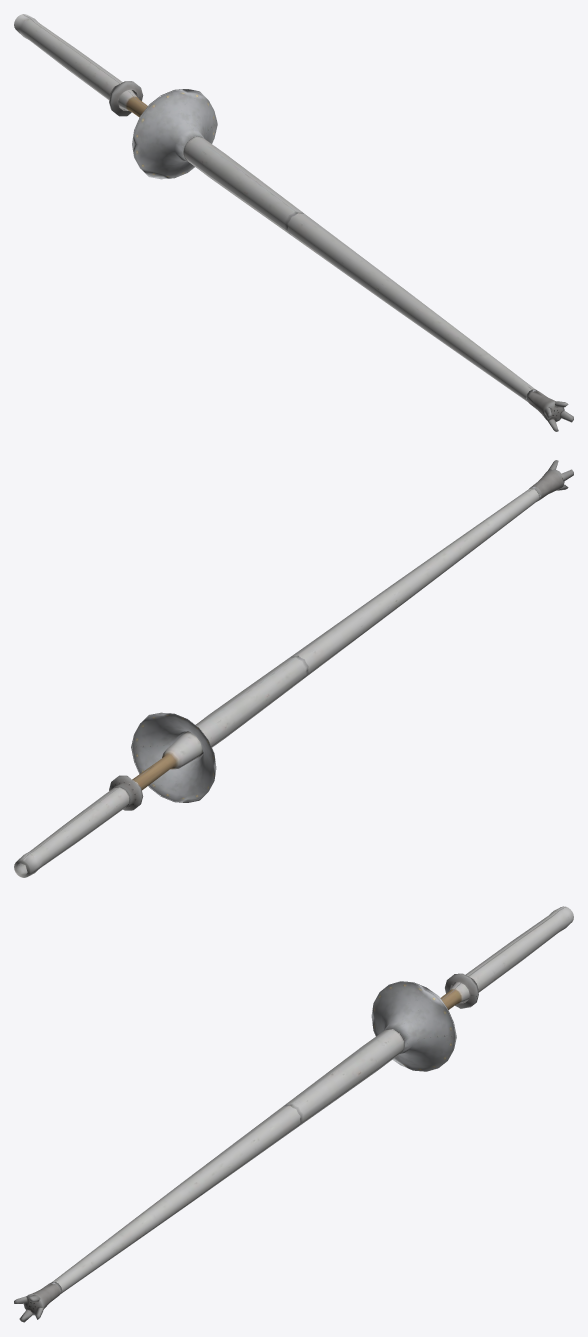
Rendered from lance_heavy_lod.glb.
3 renders of one model, top to bottom at view 1: azimuth 30°, elevation 25°; view 2: azimuth 150°, elevation 25°; view 3: azimuth 330°, elevation 25°, orthographic.
Parts seen in each view (by area): view 1: lance_rear, lance_fore, lance_vamplate, coronel, lance_grapper; view 2: lance_rear, lance_fore, lance_vamplate, coronel, lance_grapper; view 3: lance_rear, lance_fore, lance_vamplate, coronel, lance_grapper.
Part boxes in pixels (x1,y1,x2,y2): lance_rear: (14,14,303,235); lance_fore: (287,213,535,401); lance_vamplate: (132,89,217,179); coronel: (526,389,573,431); lance_grapper: (109,81,143,116); lance_rear: (14,655,308,877); lance_fore: (292,488,539,677); lance_vamplate: (131,712,216,802); coronel: (529,460,573,501); lance_grapper: (109,775,143,810); lance_rear: (283,906,573,1127); lance_fore: (52,1105,300,1293); lance_vamplate: (371,981,456,1071); coronel: (14,1282,62,1322); lance_grapper: (445,973,478,1008).
Bounding box in the file's own units: 0.3561 × 0.3516 × 3.89.
1 material, 1 textured.
